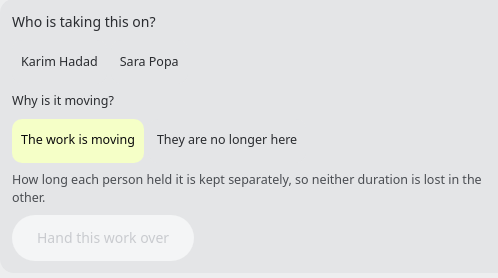
Test: who the work can go to › cannot be submitted until somebody is chosen
Expected: the button "Hand this work over" is disabled, [12,215,194,261]
Click the button "Karim Hadad".
click(59, 62)  # box [12,40,107,84]
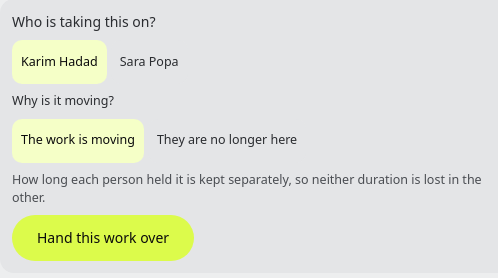
Expected: the button "Hand this work over" is enabled, [12,215,194,261]
